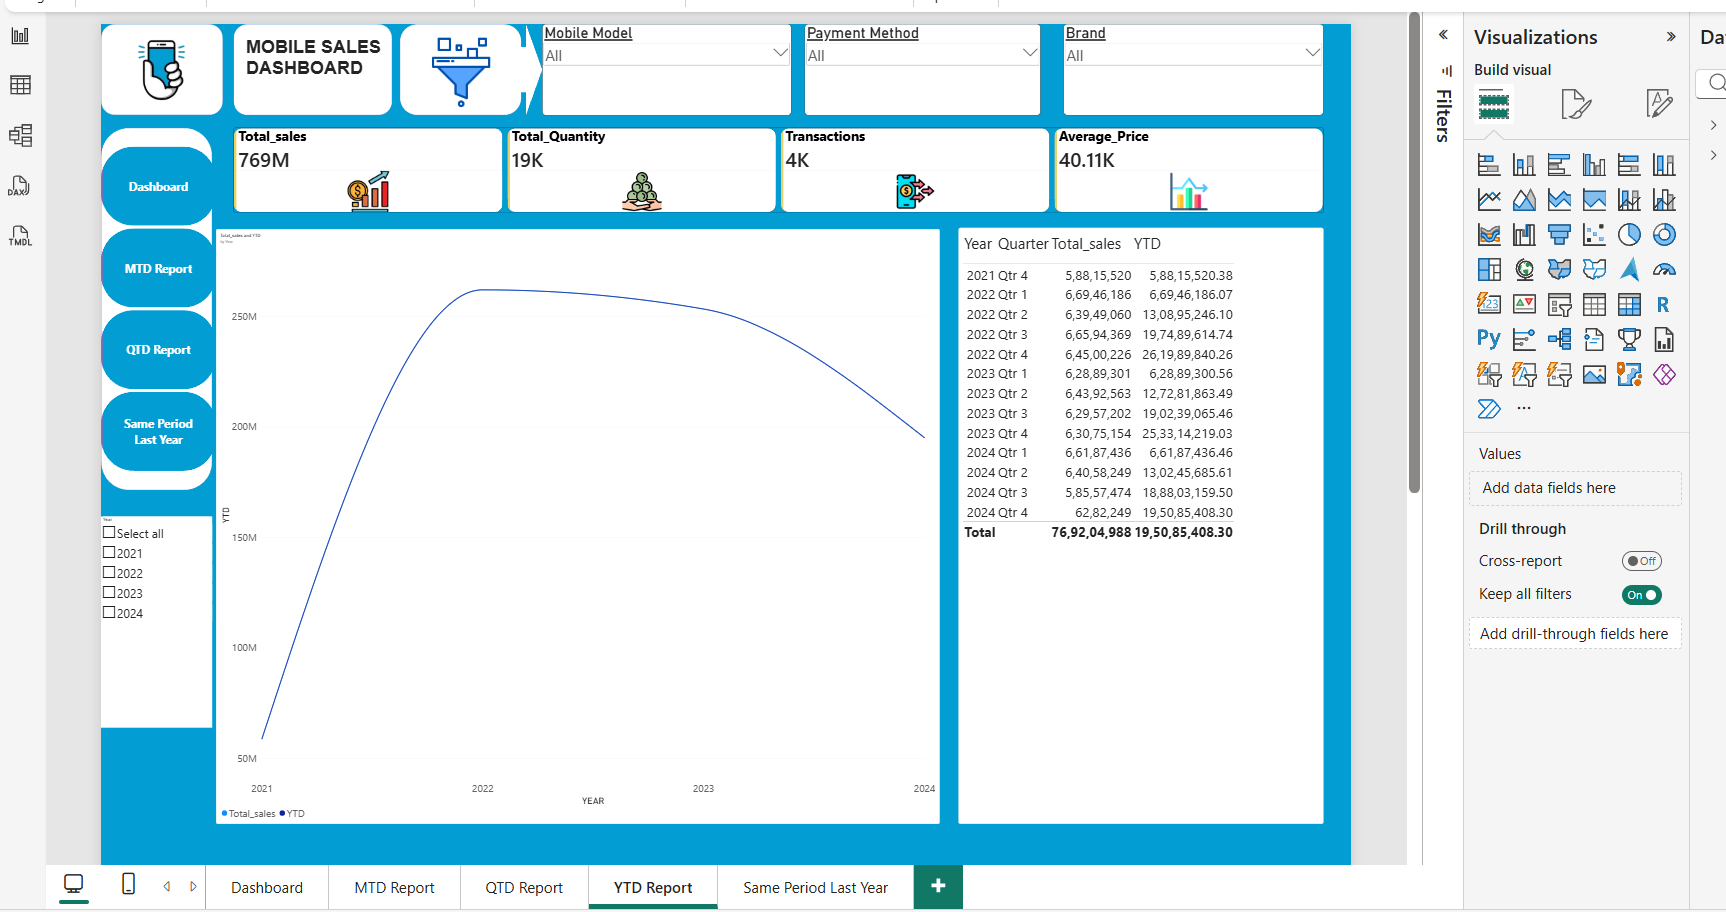

Layout of this report page (visuals, bound fields, positions):
{"tool":"powerbi","page":{"name":"YTD Report","canvas":[5000,6000],"ordinal":3},"visuals":[{"type":"shape","box":[0,0,487.8,364.5],"z":0},{"type":"image","box":[26.8,26.8,434.2,310.9],"z":1000},{"type":"cardVisual","fields":{"Data":["Mobile Sales Data.Total_sales","Mobile Sales Data.Total_Quantity","Mobile Sales Data.Transactions","Mobile Sales Data.Average_Price"]},"box":[530,415,4360,340],"z":2000},{"type":"slicer","fields":{"Values":["Mobile Sales Data.Mobile Model"]},"box":[1765.2,0,995.7,365.2],"z":3000},{"type":"slicer","fields":{"Values":["Mobile Sales Data.Payment Method"]},"box":[2813,0,943.5,365.2],"z":4000},{"type":"shape","box":[1195.7,0,487,365.2],"z":5000},{"type":"slicer","fields":{"Values":["Mobile Sales Data.Brand"]},"box":[3850,0,1040,365],"z":6000},{"type":"image","box":[1243.5,52.2,391.3,287],"z":7000},{"type":"shape","box":[1634.8,0,130.4,365.2],"z":8000},{"type":"shape","box":[530.4,0,634.8,365.2],"z":9000},{"type":"textbox","box":[4779,0,221,365],"z":10000},{"type":"textbox","box":[578.3,52.2,556.5,287],"z":11000},{"type":"tableEx","fields":{"Values":["Custom Calender.Date.Variation.Date Hierarchy.Year","Custom Calender.Date.Variation.Date Hierarchy.Quarter","Mobile Sales Data.Total_sales","Mobile Sales Data.YTD"]},"box":[3430,815,1460,2385],"z":12000},{"type":"lineChart","fields":{"Category":["Custom Calender.Date.Variation.Date Hierarchy.Year","Custom Calender.Date.Variation.Date Hierarchy.Quarter"],"Y":["Mobile Sales Data.Total_sales","Mobile Sales Data.YTD"]},"box":[460,820,2895,2380],"z":13000},{"type":"slicer","fields":{"Values":["Custom Calender.Date.Variation.Date Hierarchy.Year"]},"box":[0,1970,445,845],"z":14000},{"type":"shape","box":[0,415,445,1450],"z":15000},{"type":"pageNavigator","box":[0,490,460,1300],"z":16000}]}

Visuals, with their boxes on the page's 5000x6000 design canvas (x1, y1, x2, y2). These are canvas units, not pixel positions in the 1726x912 screenshot, which may show the page scaled, cropped or inside an application window:
shape: [left=0, top=0, right=488, bottom=364]
image: [left=27, top=27, right=461, bottom=338]
cardVisual - Mobile Sales Data.Total_sales x Mobile Sales Data.Total_Quantity: [left=530, top=415, right=4890, bottom=755]
slicer - Mobile Sales Data.Mobile Model: [left=1765, top=0, right=2761, bottom=365]
slicer - Mobile Sales Data.Payment Method: [left=2813, top=0, right=3756, bottom=365]
shape: [left=1196, top=0, right=1683, bottom=365]
slicer - Mobile Sales Data.Brand: [left=3850, top=0, right=4890, bottom=365]
image: [left=1244, top=52, right=1635, bottom=339]
shape: [left=1635, top=0, right=1765, bottom=365]
shape: [left=530, top=0, right=1165, bottom=365]
textbox: [left=4779, top=0, right=5000, bottom=365]
textbox: [left=578, top=52, right=1135, bottom=339]
tableEx - Custom Calender.Date.Variation.Date Hierarchy.Year x Custom Calender.Date.Variation.Date Hierarchy.Quarter: [left=3430, top=815, right=4890, bottom=3200]
lineChart - Custom Calender.Date.Variation.Date Hierarchy.Year x Custom Calender.Date.Variation.Date Hierarchy.Quarter: [left=460, top=820, right=3355, bottom=3200]
slicer - Custom Calender.Date.Variation.Date Hierarchy.Year: [left=0, top=1970, right=445, bottom=2815]
shape: [left=0, top=415, right=445, bottom=1865]
pageNavigator: [left=0, top=490, right=460, bottom=1790]
